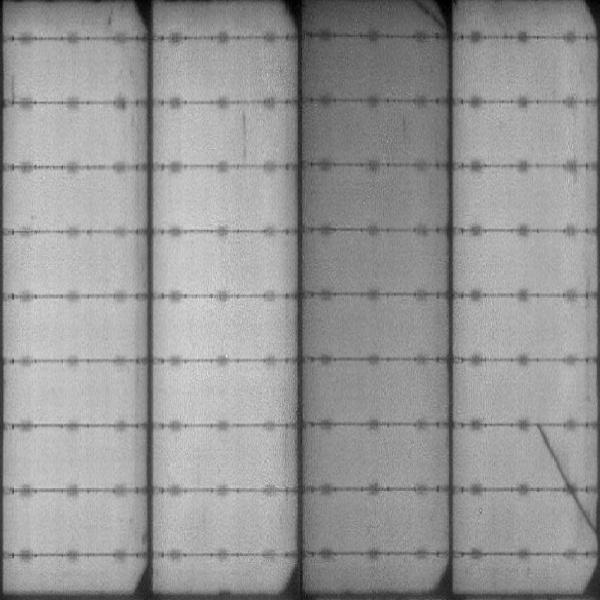scratch: (538, 429, 565, 487), (569, 490, 597, 535), (413, 7, 439, 34)
